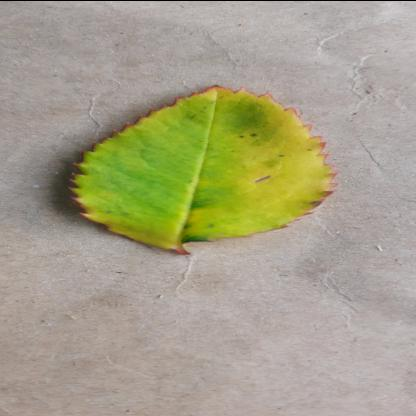black-spot: (67, 82, 349, 258)
